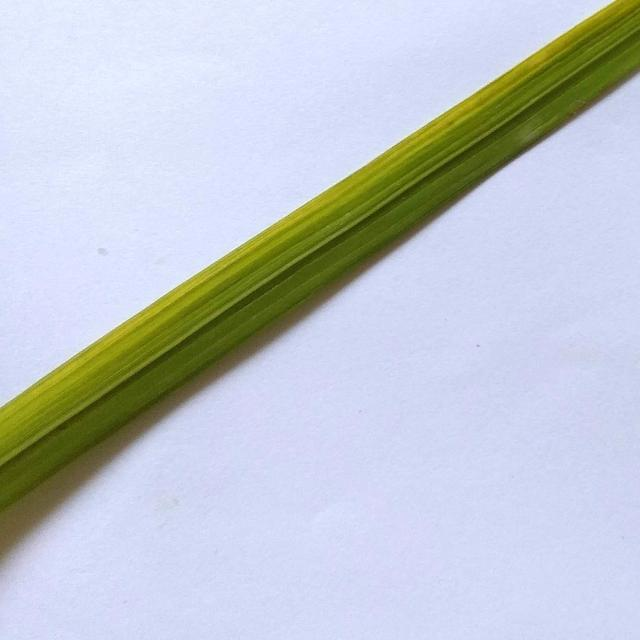Rice_Healthy: (0, 0, 640, 509)
